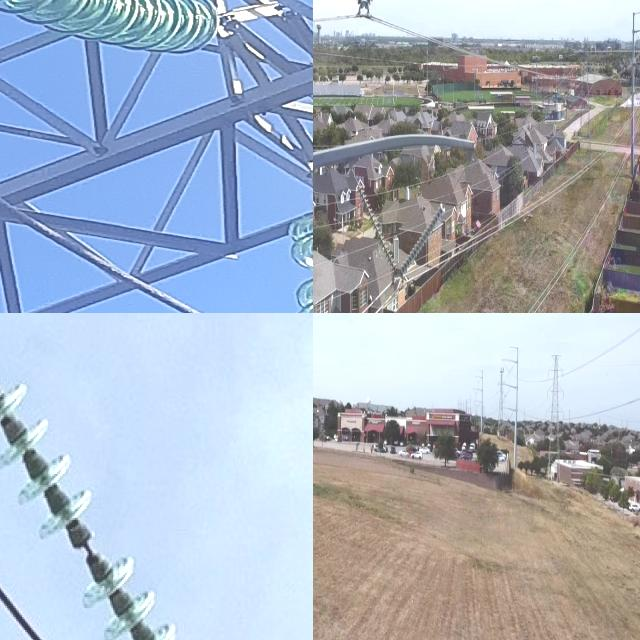杆塔: (544, 346, 567, 484), (496, 363, 510, 440)
正常绝缘子: (0, 338, 193, 640), (0, 0, 227, 67), (350, 172, 408, 289), (389, 192, 454, 293), (545, 389, 549, 402), (545, 409, 549, 422), (546, 368, 550, 380), (562, 388, 565, 402), (563, 410, 566, 420), (562, 368, 564, 379)
绝缘子破损: (64, 527, 109, 568)
